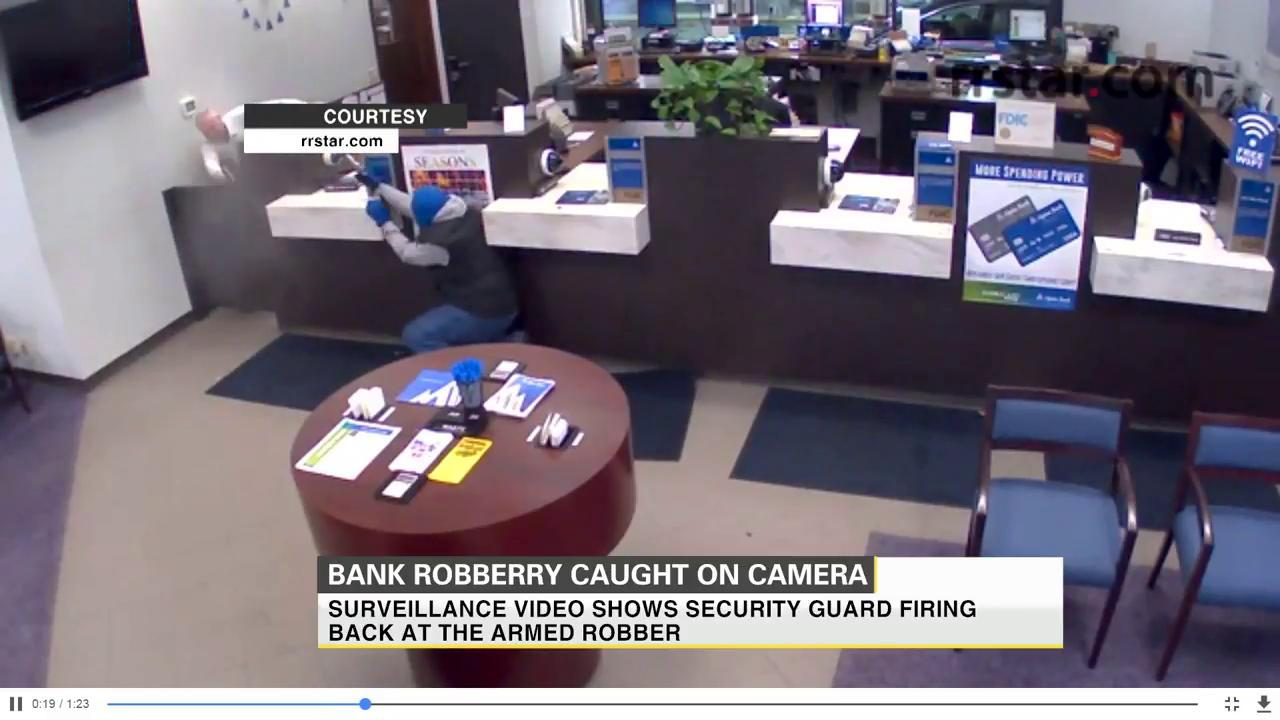gun: (348, 156, 366, 185)
